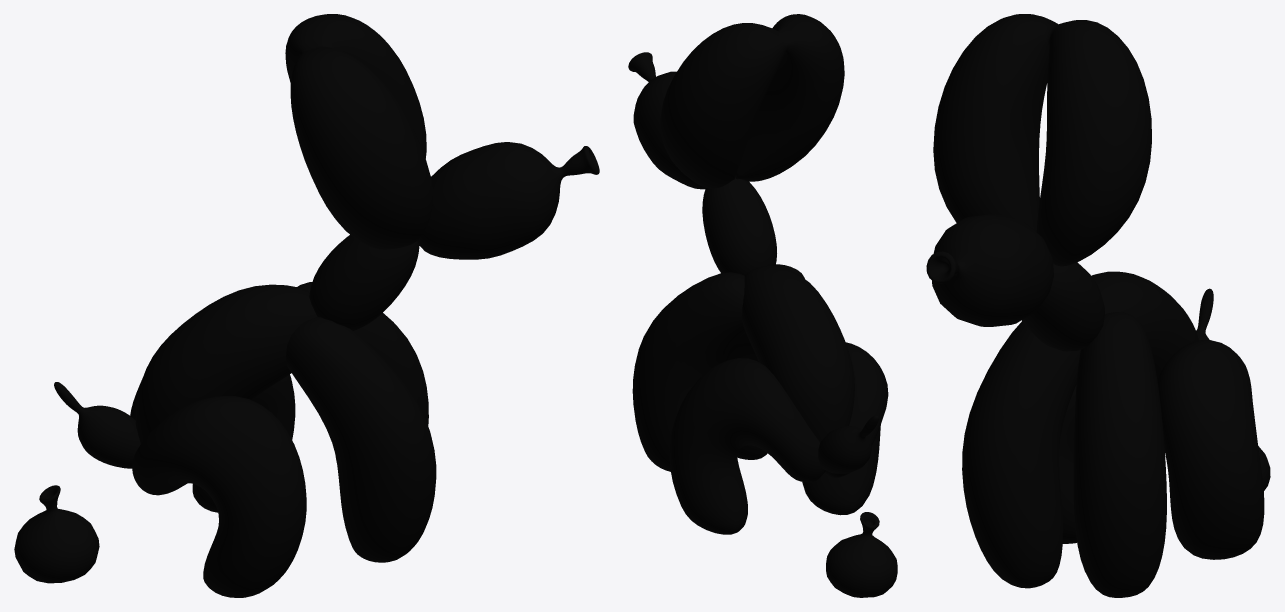
Rendered from blln.glb.
3 renders of one model, left to right at view 1: azimuth 30°, elevation 25°; view 2: azimuth 150°, elevation 25°; view 3: azimuth 270°, elevation 25°, orthographic. The views are drawn at different scales.
Visible parts, largest first — view 1: Body; view 2: Body; view 3: Body.
Part boxes in pixels (left/top/right/bottom): Body: left=14, top=14, right=599, bottom=597; Body: left=628, top=14, right=897, bottom=597; Body: left=926, top=14, right=1270, bottom=597.
Size of the model in its own units: 0.2861 by 0.3451 by 0.1865.
Materials: 1 (1 with a texture image).
